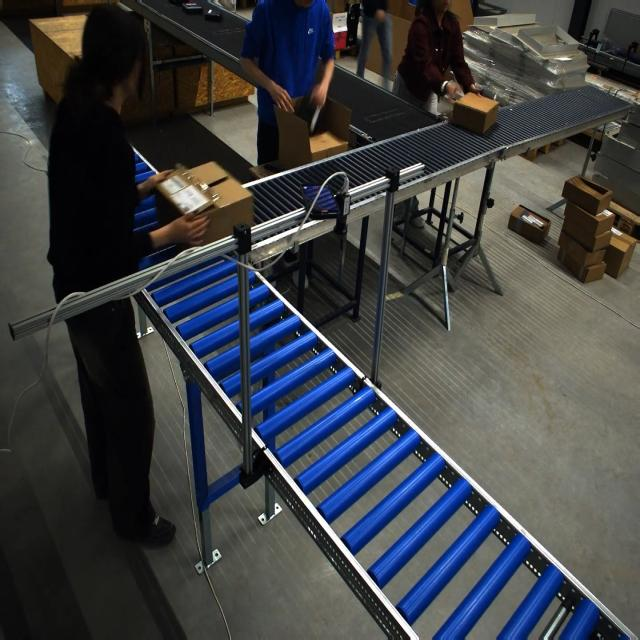box: (156, 162, 252, 247), (451, 91, 500, 135)
product: (181, 2, 203, 14), (204, 8, 223, 21), (168, 0, 188, 7)
